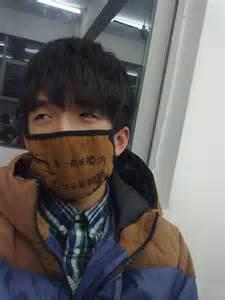OK: (25, 101, 120, 194)
